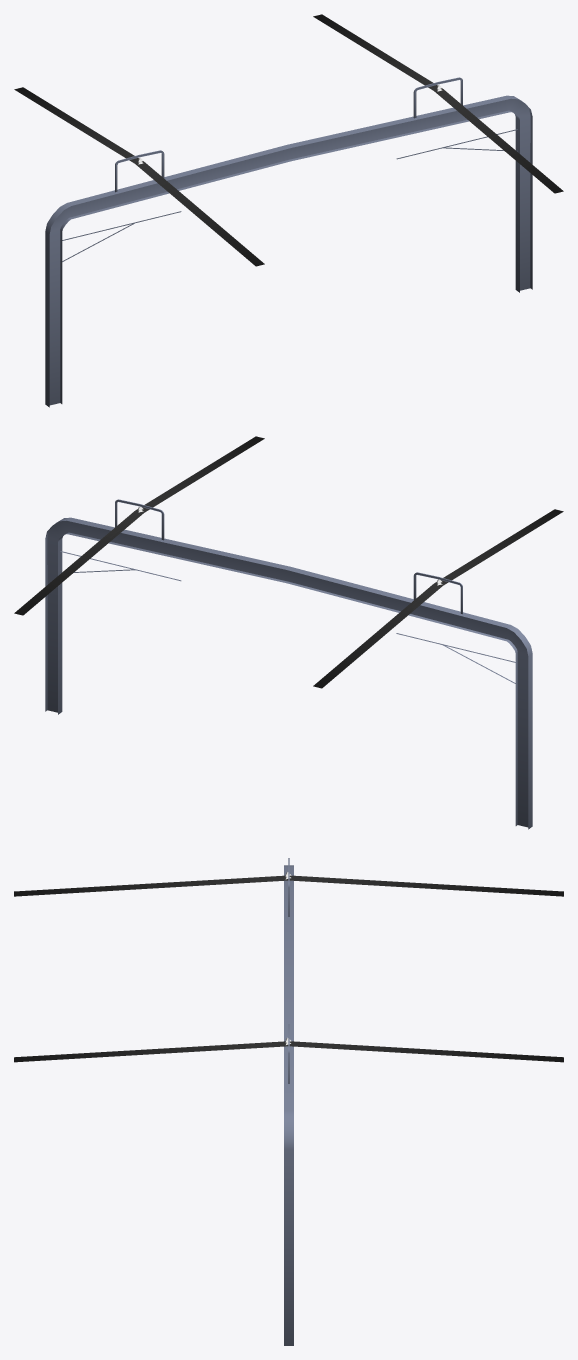
Rendered from KASENCHU_T01.glb.
3 renders of one model, top to bottom at view 1: azimuth 30°, elevation 25°; view 2: azimuth 150°, elevation 25°; view 3: azimuth 270°, elevation 25°, orthographic. The views are drawn at different scales.
Parts seen in each view (by area): view 1: FRAME_ROOT; view 2: FRAME_ROOT; view 3: FRAME_ROOT.
Part boxes in pixels (<box>): FRAME_ROOT: <box>14,14,563,407</box>; FRAME_ROOT: <box>14,436,563,829</box>; FRAME_ROOT: <box>14,858,563,1345</box>.
Bounding box in the file's own units: 45.65 × 20.64 × 39.61.
3 materials, 2 textured.
